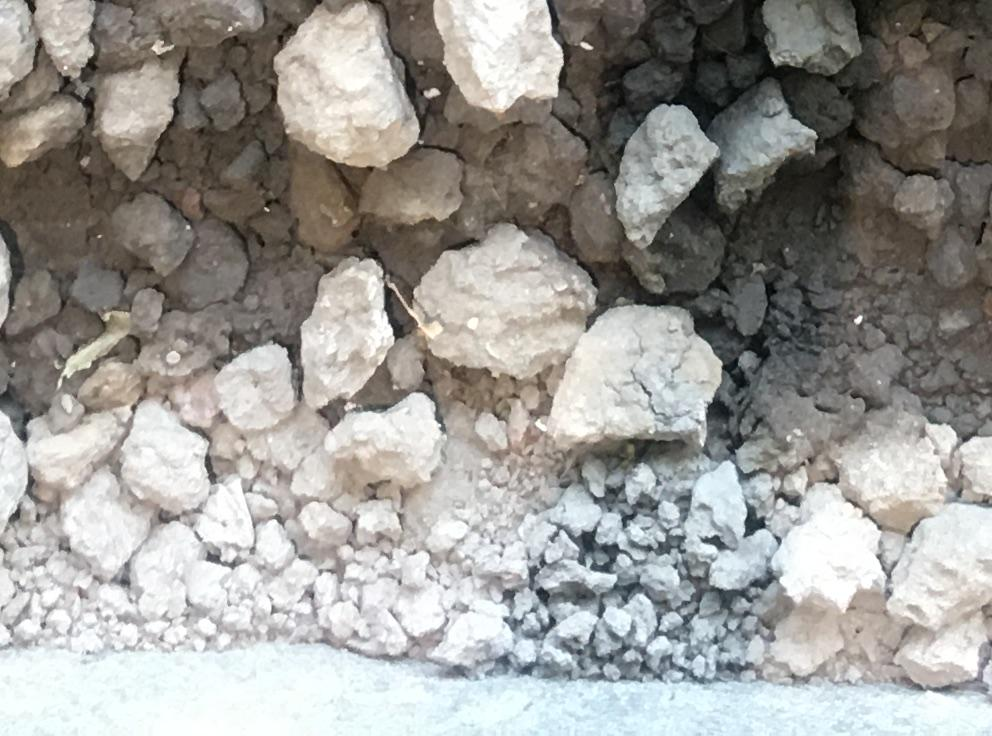block: (409, 222, 591, 385), (543, 299, 729, 457), (271, 3, 415, 173), (433, 1, 569, 117), (613, 104, 717, 253), (298, 252, 394, 412), (710, 76, 818, 214), (768, 500, 884, 619), (888, 502, 992, 633), (323, 392, 444, 496), (118, 393, 215, 517)
